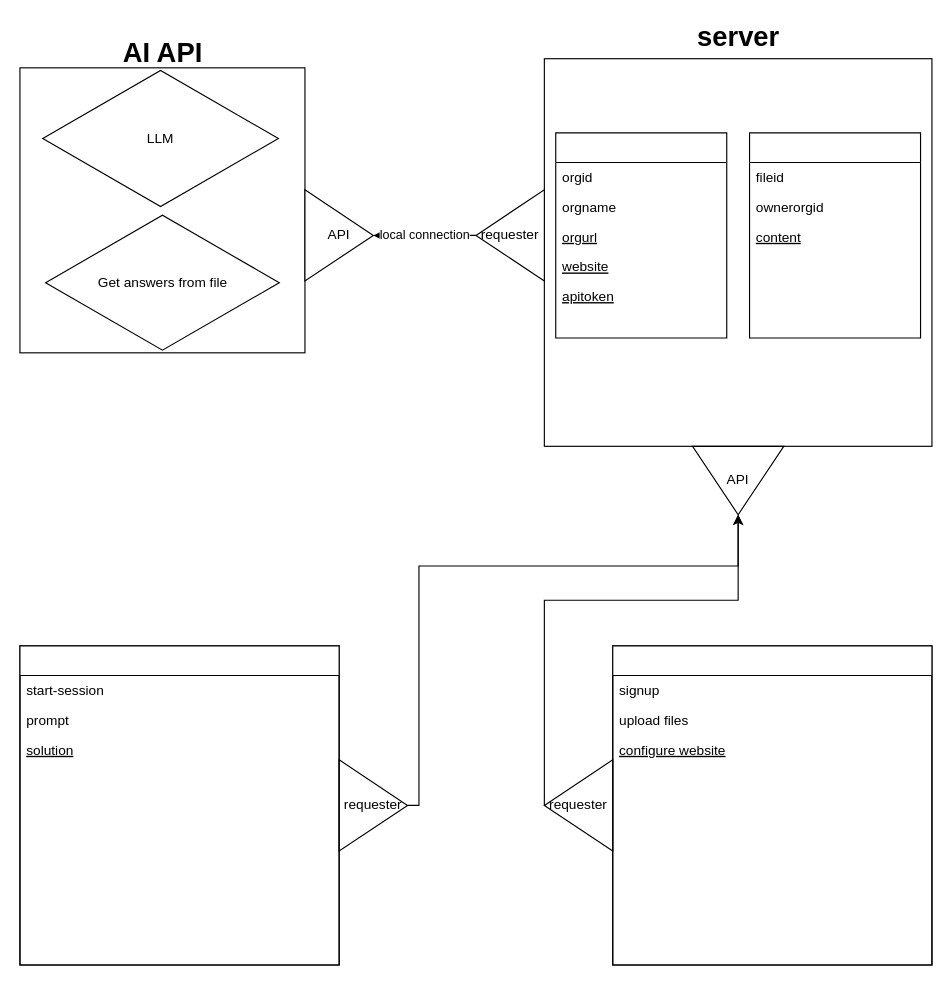
Image size: 952x985. Some labels were removed from this diagram. The shapes that lost their labels are listed below. From the top down, each one's box as (x1, y1, x2, y2) in pixels, then its label:
(555, 132, 727, 338): Orginizations
(748, 132, 921, 338): files
(19, 645, 339, 965): support website (org)
(612, 645, 932, 965): main website
